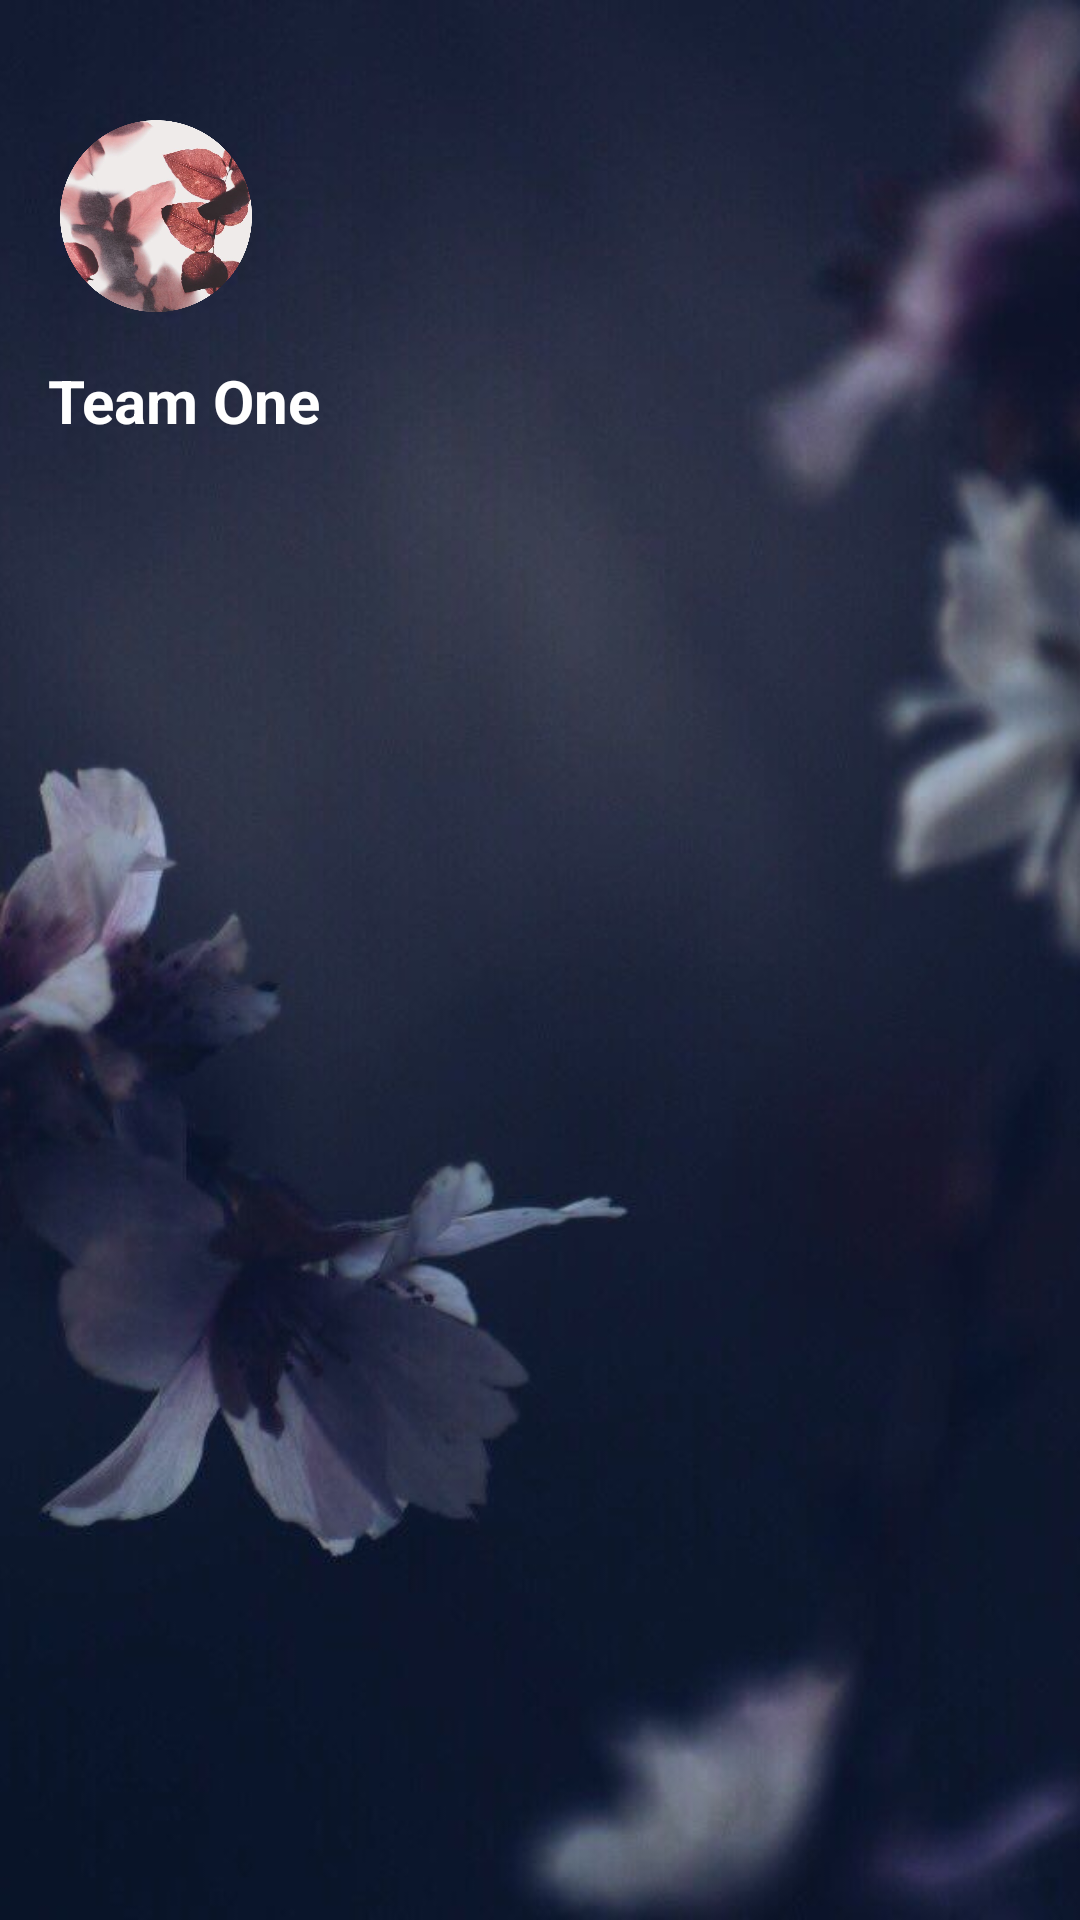

Locate icon controls on the screen. Image size 1080px x 1920px, boxes as box=[x1, y1, x2, y2].
head: box=[60, 120, 252, 312]
